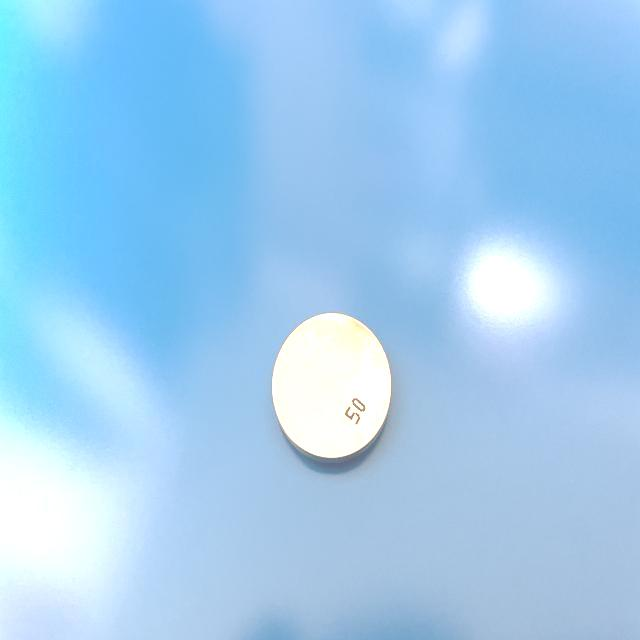COIN: (270, 310, 392, 468)
